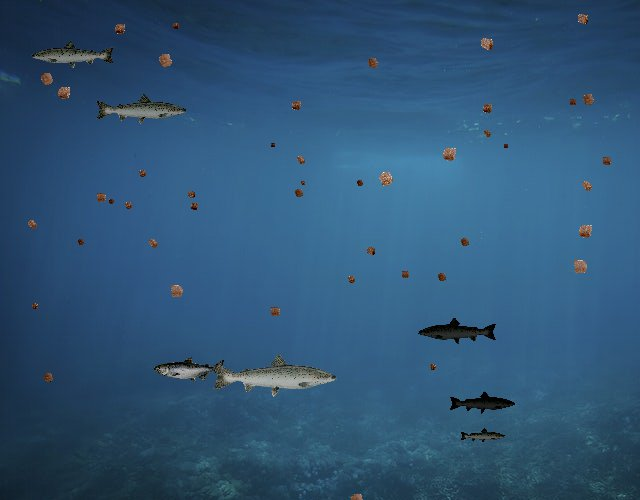Fish: (210, 352, 339, 398), (95, 93, 189, 127), (30, 39, 116, 70), (418, 316, 499, 346), (155, 356, 228, 383), (448, 391, 516, 415), (460, 427, 507, 444)
Pellet: (435, 141, 464, 170), (571, 217, 599, 245), (473, 31, 500, 58), (576, 88, 600, 112), (286, 96, 307, 117), (455, 233, 474, 252), (343, 271, 360, 288), (28, 299, 42, 313)
